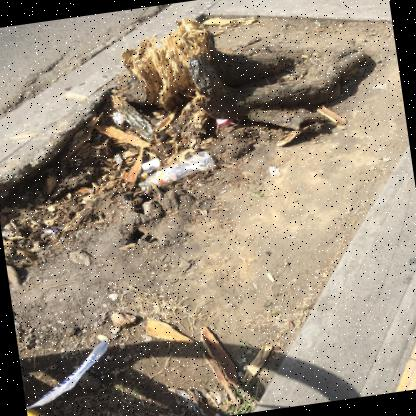Cigarette: (219, 190, 227, 194)
Clear plastic bottle: (138, 151, 214, 187)
Drink carton: (216, 118, 233, 128)
Foam cup: (141, 158, 159, 171)
Normal paper: (42, 226, 58, 235)
Plastic film: (27, 339, 108, 409), (136, 166, 152, 184)
Plastic straw: (230, 122, 238, 125)
